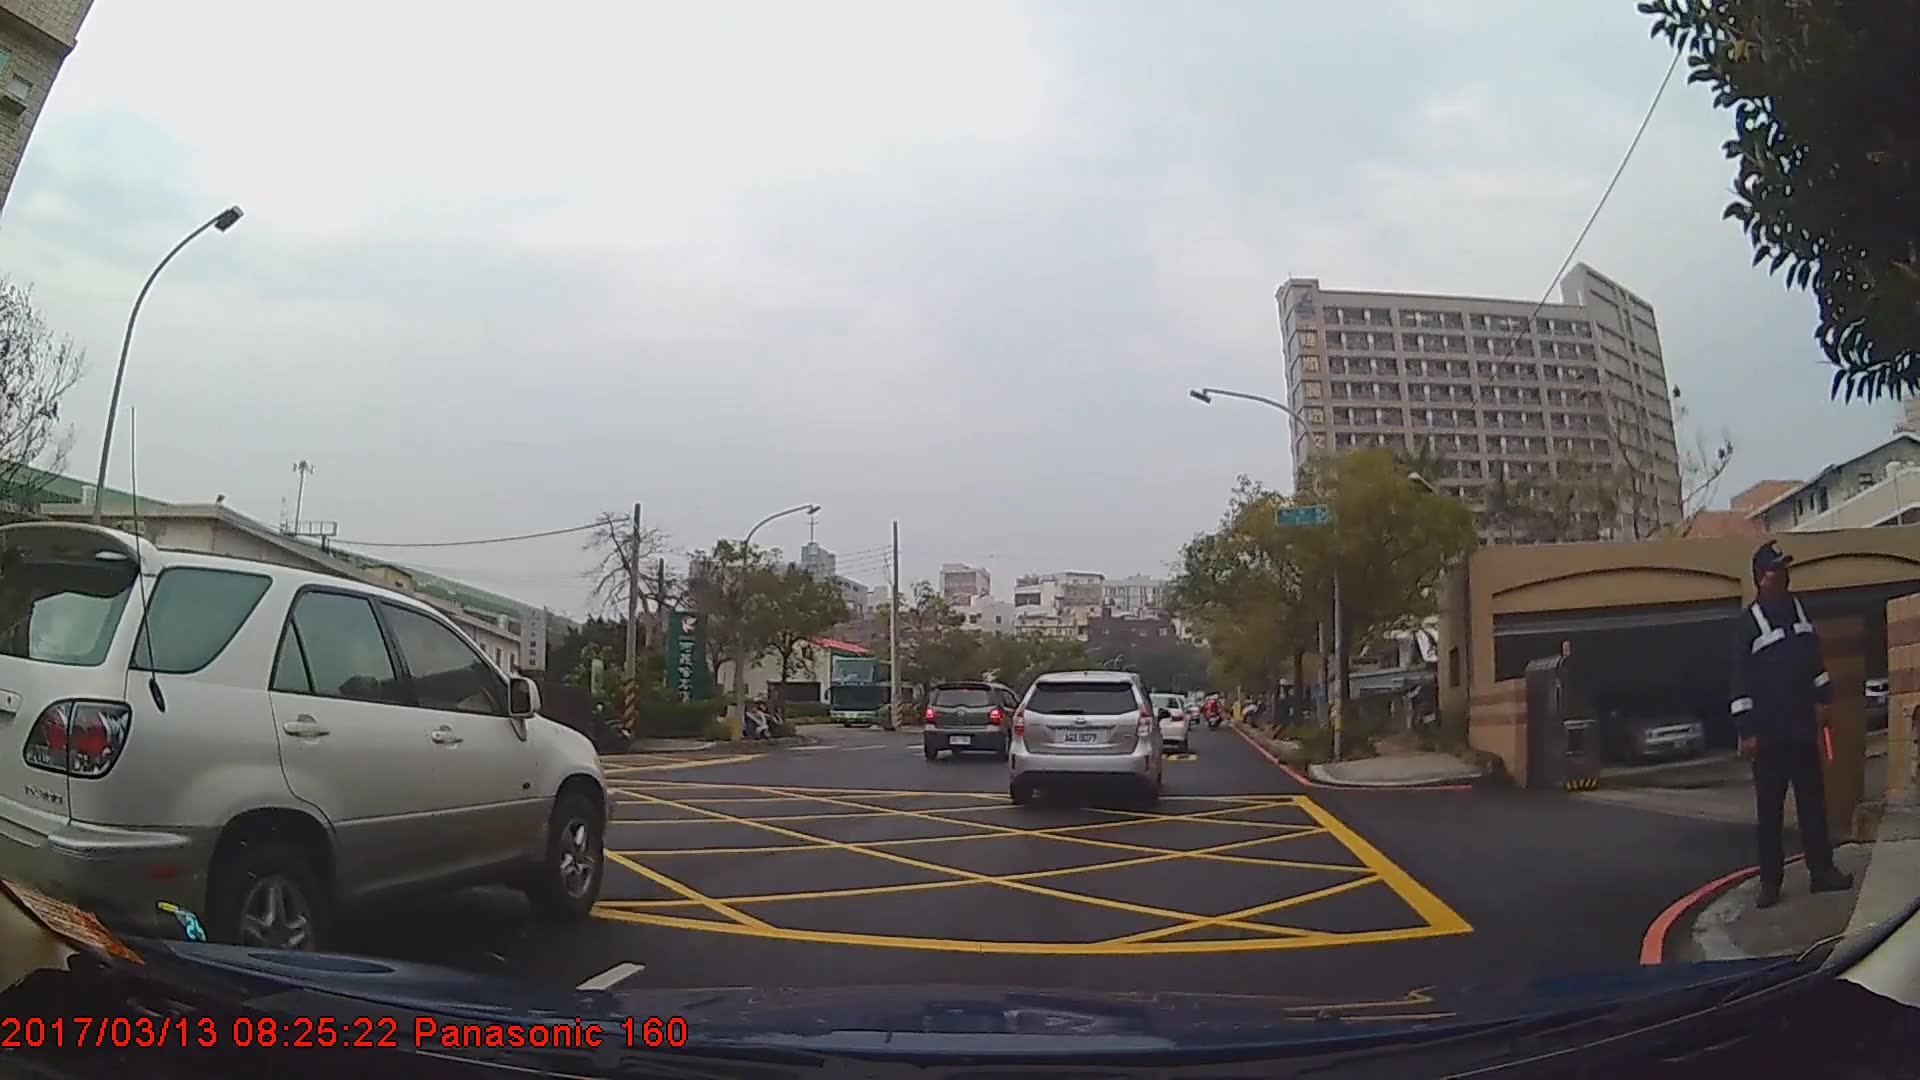pedestrian: (1730, 538, 1851, 919)
vehicle: (0, 518, 613, 991), (1007, 670, 1165, 810), (1594, 683, 1712, 761), (922, 680, 1026, 763), (827, 656, 928, 730), (1128, 692, 1191, 756)
